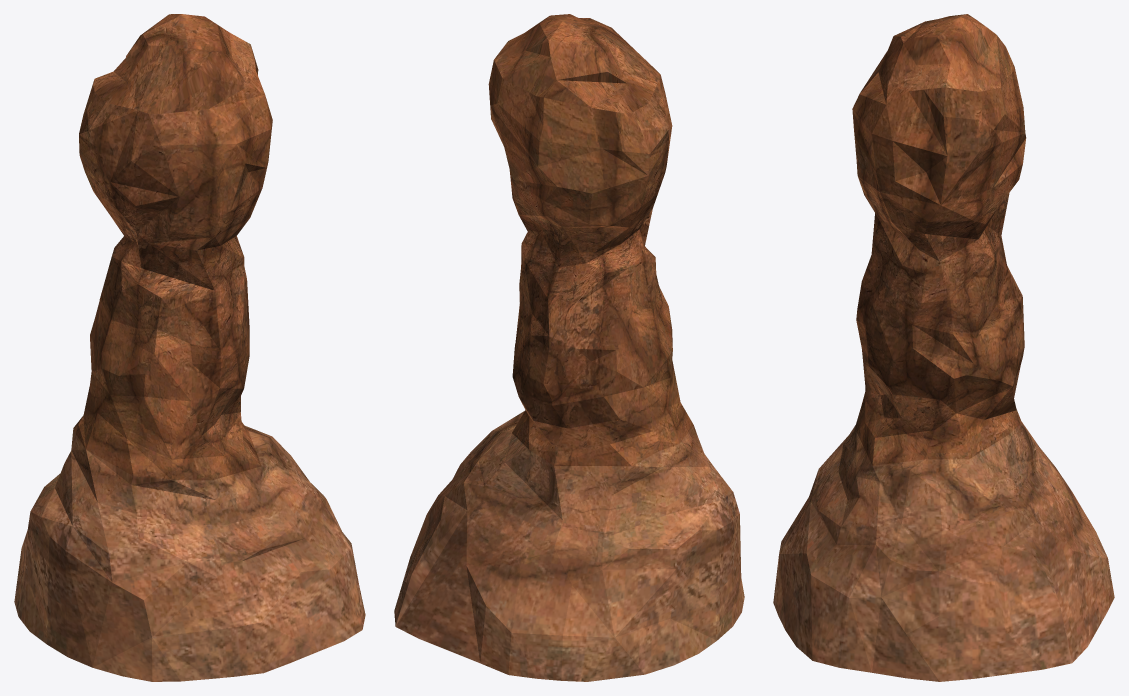
Rendered from poi_tato_sacred_pinnacle_l0.fbx.
3 views of the same model, side by side, from view 1: azimuth 30°, elevation 25°; view 2: azimuth 150°, elevation 25°; view 3: azimuth 270°, elevation 25° (orthographic).
Parts seen in each view (by area): view 1: mesh_node; view 2: mesh_node; view 3: mesh_node.
Part boxes in pixels (left/top/right/bottom): mesh_node: left=14, top=14, right=365, bottom=681; mesh_node: left=394, top=14, right=744, bottom=681; mesh_node: left=773, top=14, right=1114, bottom=681.
Size of the model in its own units: 104 by 199 by 104.
